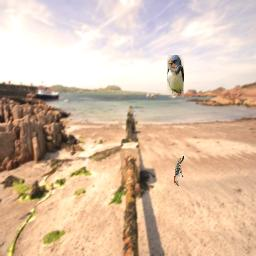Swallow: (167, 55, 184, 94)
Woodpecker: (174, 156, 184, 186)
